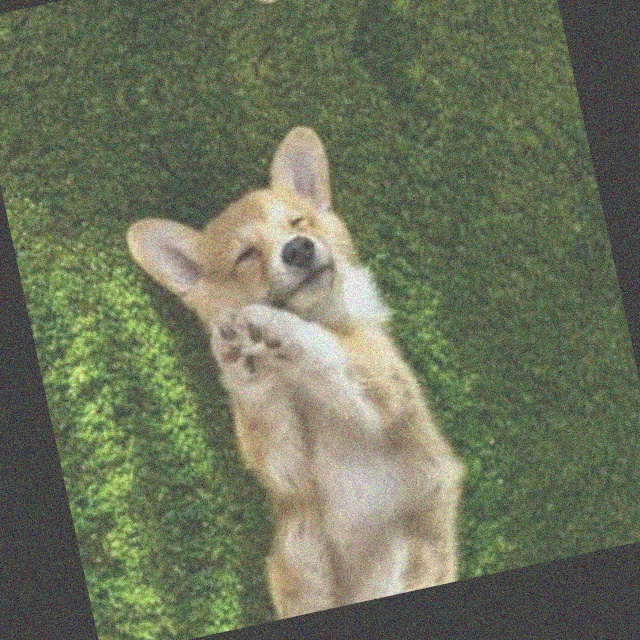dog: (94, 89, 472, 530), (176, 466, 495, 637), (61, 0, 370, 60)
